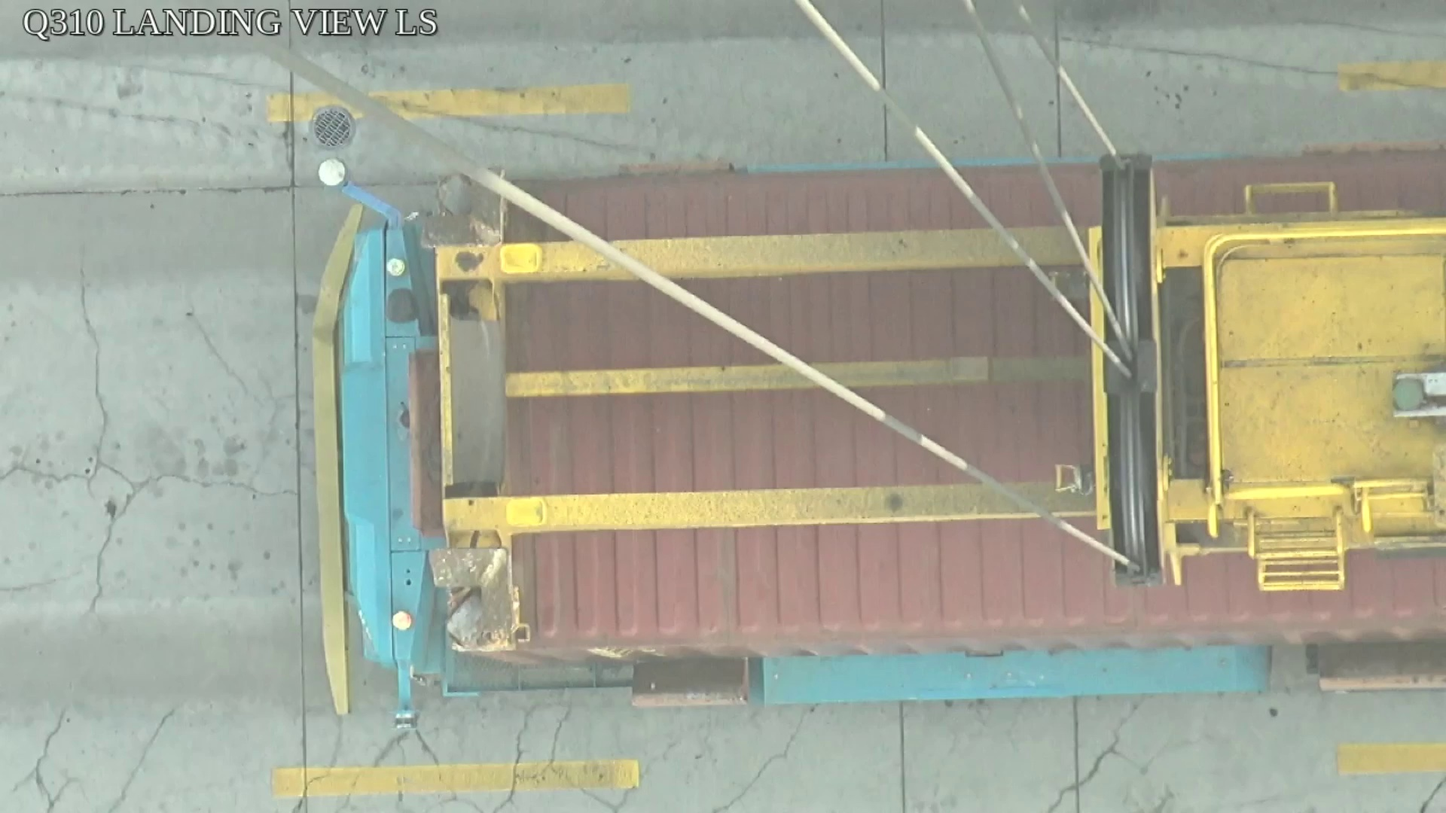aa: (1095, 151, 1184, 595)
